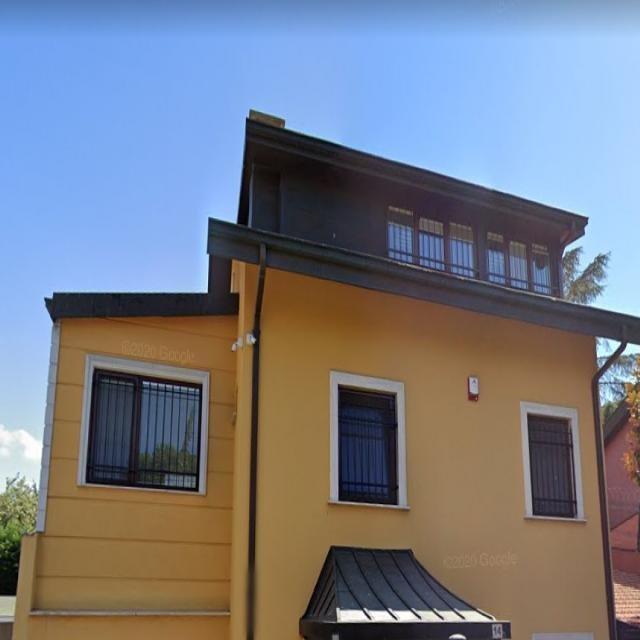Building: (12, 120, 640, 640)
